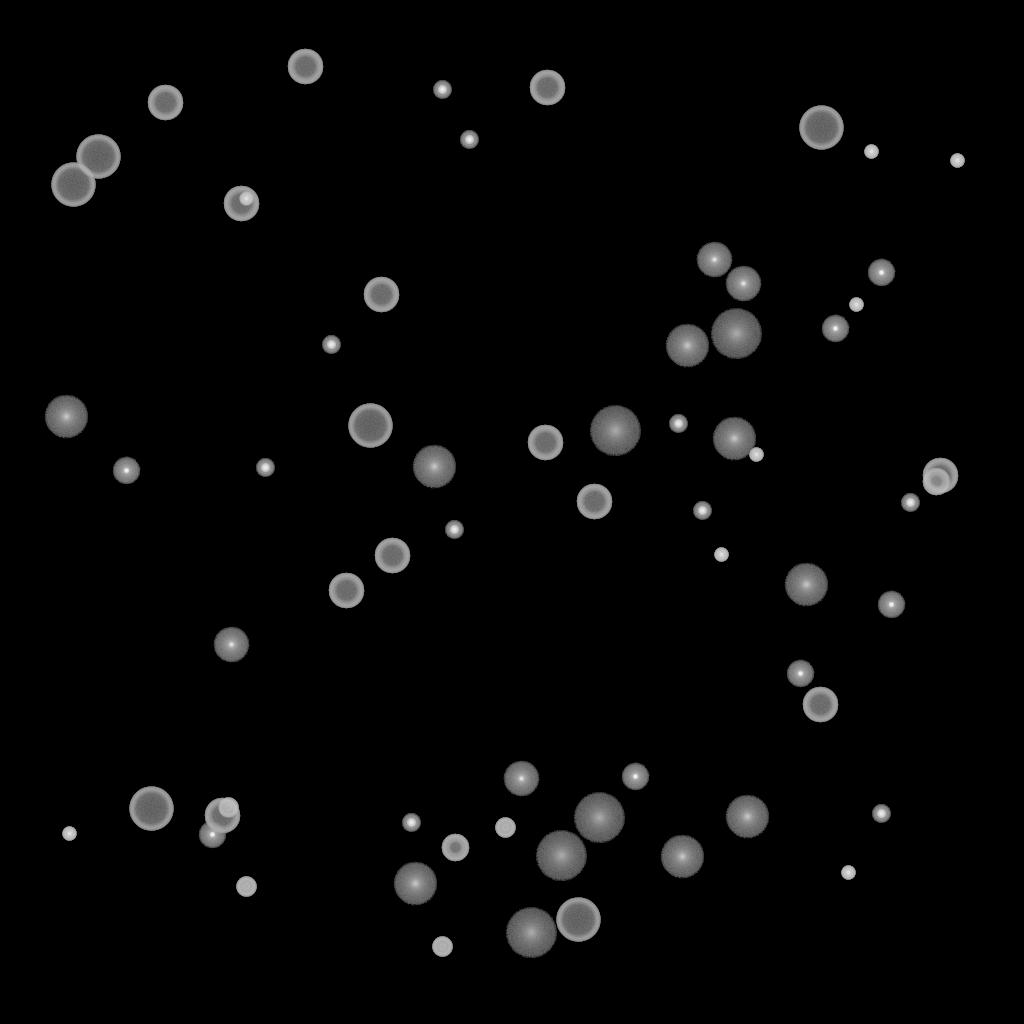depth:-10: (621, 763, 649, 791), (821, 315, 849, 343), (112, 457, 140, 485), (867, 259, 895, 287), (786, 660, 814, 688), (877, 591, 905, 619), (198, 821, 226, 849)
depth:-20: (669, 415, 687, 433), (433, 81, 451, 99), (872, 805, 890, 823), (445, 521, 463, 539), (693, 502, 711, 520), (402, 814, 420, 832), (460, 131, 478, 149), (322, 336, 340, 354), (901, 494, 919, 512), (256, 459, 274, 477)
depth:-30: (239, 192, 253, 206), (950, 154, 964, 168), (864, 145, 878, 159), (714, 548, 728, 562), (849, 298, 863, 312), (841, 866, 855, 880), (62, 827, 76, 841), (749, 448, 763, 462)
depth:-40: (218, 798, 238, 818), (236, 877, 256, 897), (495, 818, 515, 838), (432, 937, 452, 957)
depth:-50: (441, 834, 469, 862), (922, 468, 950, 496)
depth:-60: (802, 687, 838, 723), (328, 573, 364, 609), (204, 798, 240, 834), (576, 484, 612, 520), (363, 277, 399, 313), (922, 458, 958, 494), (223, 186, 259, 222), (527, 425, 563, 461), (287, 49, 323, 85), (374, 538, 410, 574), (529, 70, 565, 106), (147, 85, 183, 121)
depth:-70: (76, 135, 120, 179), (129, 787, 173, 831), (348, 404, 392, 448), (799, 106, 843, 150), (556, 898, 600, 942), (51, 163, 95, 207)
depth:0: (213, 627, 249, 663), (696, 242, 732, 278), (503, 761, 539, 797), (725, 266, 761, 302)
depth:10: (712, 417, 756, 461), (725, 795, 769, 839), (393, 862, 437, 906), (660, 835, 704, 879), (412, 445, 456, 489), (665, 324, 709, 368), (784, 563, 828, 607), (44, 395, 88, 439)
depth:20: (573, 793, 625, 843), (589, 406, 641, 456), (710, 309, 762, 359), (505, 908, 557, 958), (535, 831, 587, 881)
